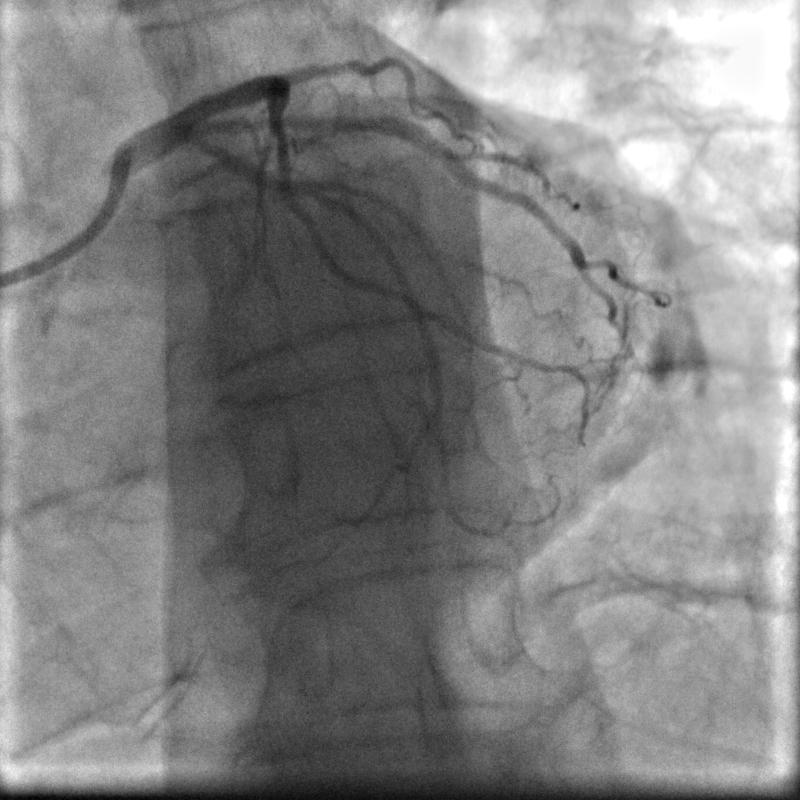Stenosis: (263, 103, 294, 158)
